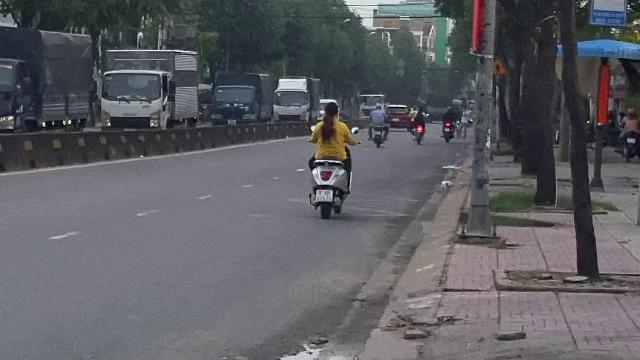licenseplate: (316, 190, 332, 201)
motorcyclist: (304, 99, 356, 219)
nohelmet: (320, 100, 340, 124)
